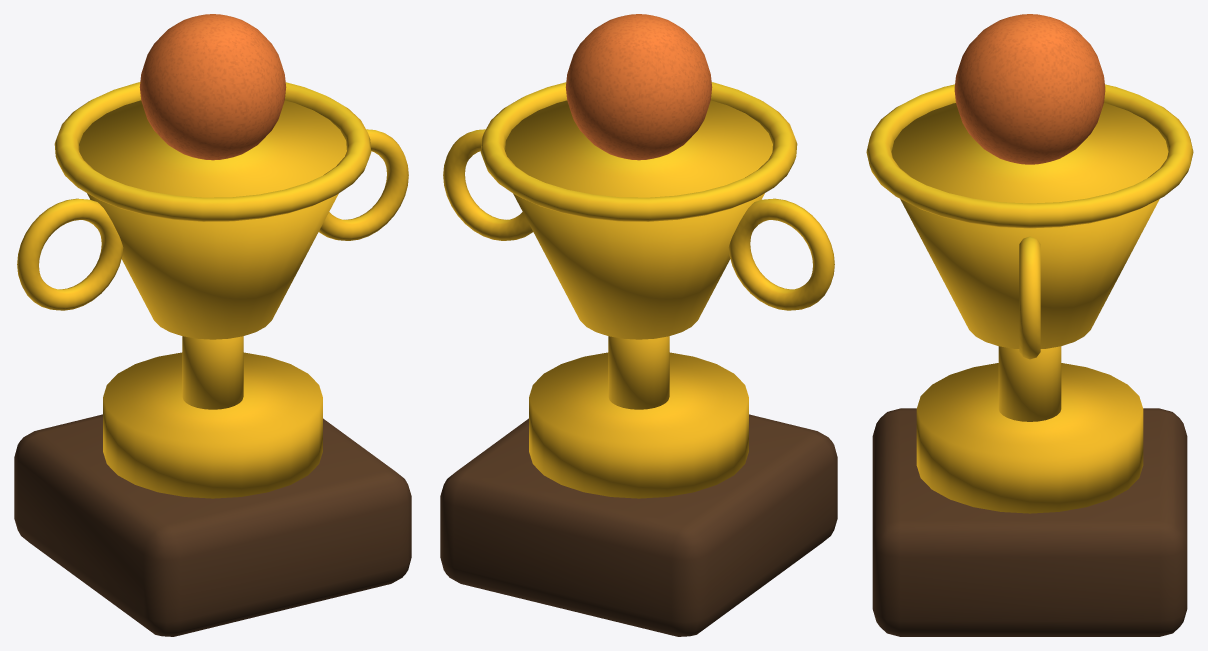
The model's file is Trophy.fbx.
3 views of the same model, side by side, from view 1: azimuth 30°, elevation 25°; view 2: azimuth 150°, elevation 25°; view 3: azimuth 270°, elevation 25° (orthographic). The views are drawn at different scales.
Visible parts, largest first — view 1: Trophy_Body; view 2: Trophy_Body; view 3: Trophy_Body.
Part boxes in pixels (bbox=[...]): Trophy_Body: bbox=[14, 14, 411, 636]; Trophy_Body: bbox=[440, 14, 837, 636]; Trophy_Body: bbox=[866, 14, 1193, 636].
Size of the model in its own units: 0.736 by 0.98 by 0.52.
1 material, 1 textured.
